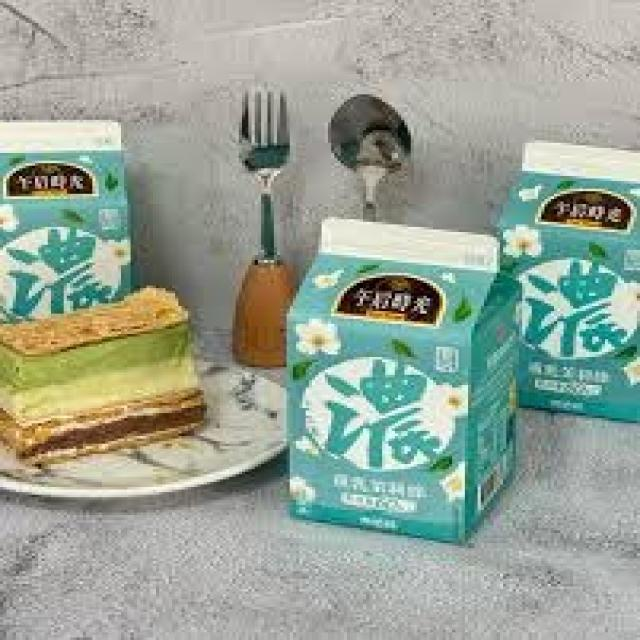Known_MilkGreenTea: (283, 222, 518, 534), (502, 140, 640, 409), (0, 123, 128, 320)
